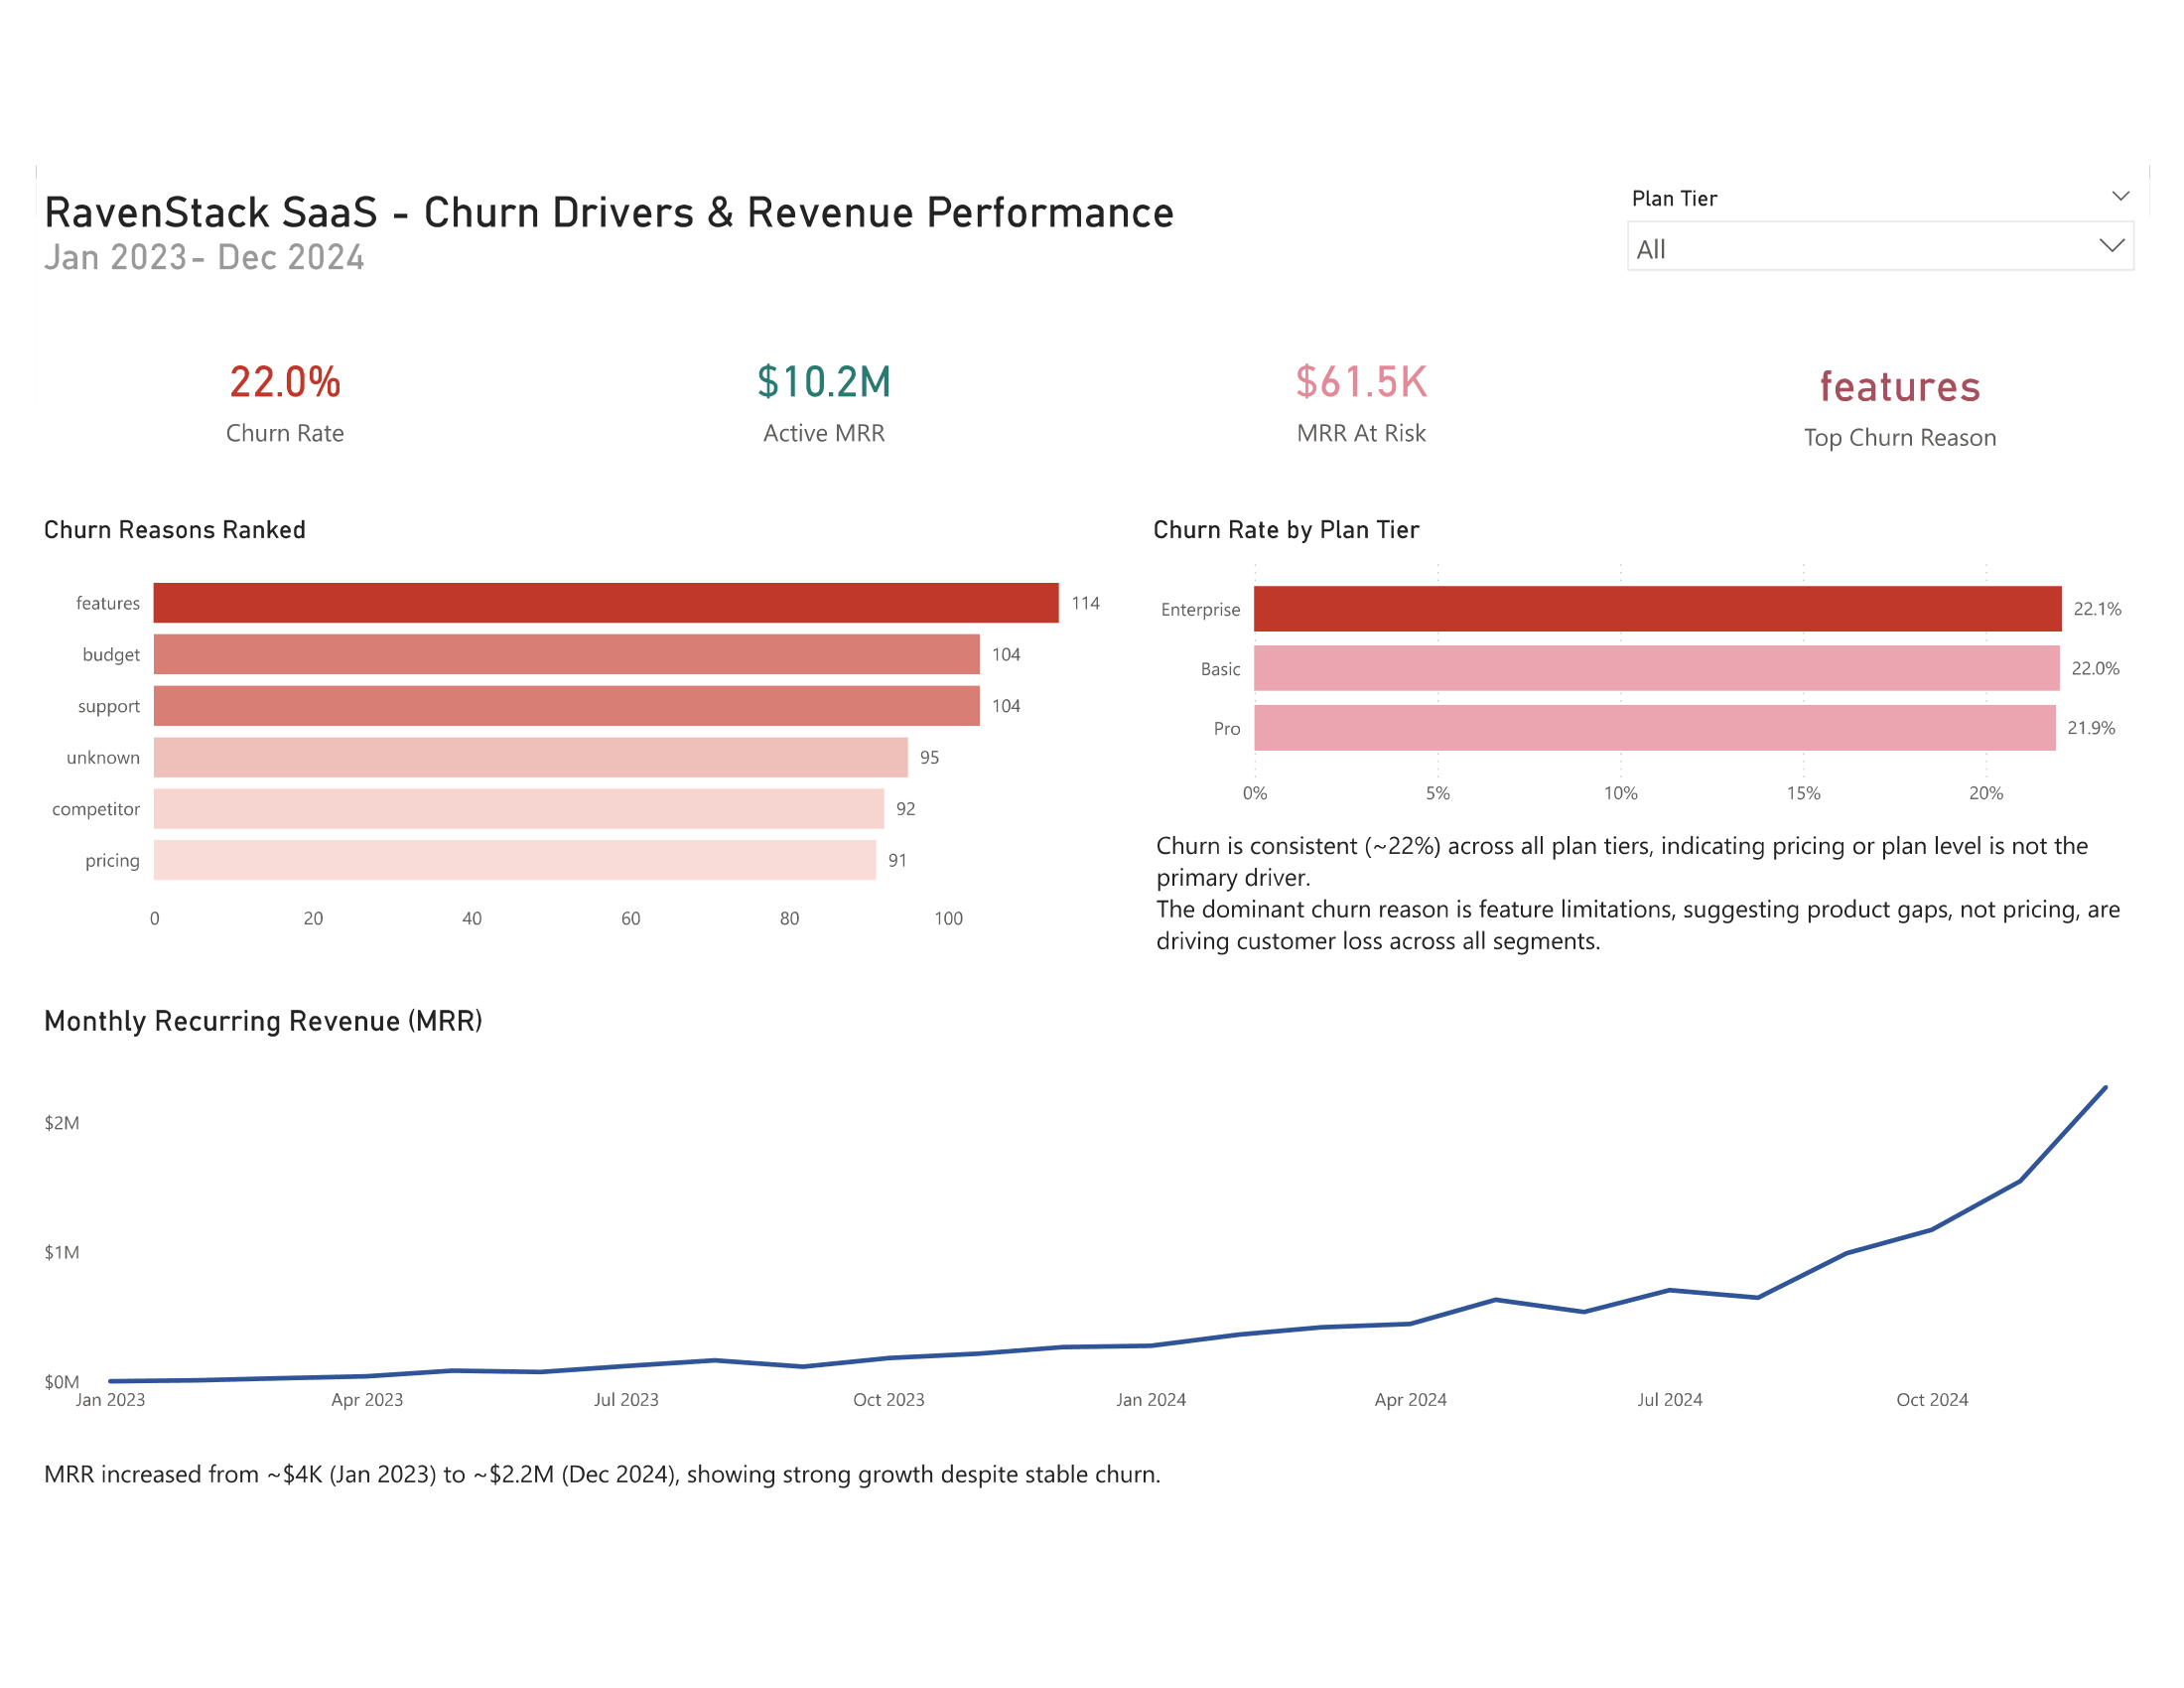

Layout of this report page (visuals, bound fields, positions):
{"tool":"powerbi","page":{"name":"Page 1","canvas":[1400,900],"ordinal":0},"visuals":[{"type":"card","fields":{"Values":["ravenstack_accounts.Churn Rate %"]},"box":[0,76.4,330.2,151.3],"z":0},{"type":"card","fields":{"Values":["ravenstack_accounts.Active MRR"]},"box":[356.7,76.4,330.2,151.3],"z":1000},{"type":"card","fields":{"Values":["ravenstack_accounts.MRR At Risk"]},"box":[713.3,76.4,330.2,151.3],"z":2000},{"type":"card","fields":{"Values":["04_churn_reasons.Top Churn Reason"]},"box":[1069.8,79.5,330.2,151.3],"z":4000},{"type":"clusteredBarChart","title":"Churn Reasons Ranked","fields":{"Category":["04_churn_reasons.reason_code"],"Y":["Sum(04_churn_reasons.total)"]},"box":[0,230.8,719.9,285.8],"z":5000},{"type":"lineChart","title":"Monthly Recurring Revenue (MRR)","fields":{"Y":["Sum(08_mrr.new_mrr)"],"Category":["08_mrr.month.Variation.Date Hierarchy.Year","08_mrr.month.Variation.Date Hierarchy.Quarter","08_mrr.month.Variation.Date Hierarchy.Month","08_mrr.month.Variation.Date Hierarchy.Day"]},"box":[0,554.9,1400.1,279.7],"z":6000},{"type":"clusteredBarChart","title":"Churn Rate by Plan Tier","fields":{"Category":["03_churn_rate.plan_tier"],"Y":["ravenstack_accounts.Churn Rate %"]},"box":[735.2,230.8,663.4,203.3],"z":7000},{"type":"textbox","box":[736.8,434.1,663.4,120.8],"z":8000},{"type":"textbox","box":[0,9.2,1118.9,70.3],"z":9000},{"type":"slicer","fields":{"Values":["04_churn_reasons.plan_tier"]},"box":[1044,9.2,356.1,70.3],"z":10000},{"type":"textbox","box":[0,849.9,1398.6,50.4],"z":11000}]}

Visuals, with their boxes on the page's 1400x900 design canvas (x1, y1, x2, y2). These are canvas units, not pixel positions in the 2184x1688 screenshot, which may show the page scaled, cropped or inside an application window:
card - ravenstack_accounts.Churn Rate %: (0, 76, 330, 228)
card - ravenstack_accounts.Active MRR: (357, 76, 687, 228)
card - ravenstack_accounts.MRR At Risk: (713, 76, 1044, 228)
card - 04_churn_reasons.Top Churn Reason: (1070, 80, 1400, 231)
"Churn Reasons Ranked" clusteredBarChart: (0, 231, 720, 517)
"Monthly Recurring Revenue (MRR)" lineChart: (0, 555, 1400, 835)
"Churn Rate by Plan Tier" clusteredBarChart: (735, 231, 1399, 434)
textbox: (737, 434, 1400, 555)
textbox: (0, 9, 1119, 80)
slicer - 04_churn_reasons.plan_tier: (1044, 9, 1400, 80)
textbox: (0, 850, 1399, 900)
